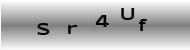4: (93, 13, 110, 27)
S: (36, 21, 50, 36)
U: (120, 7, 136, 21)
f: (137, 18, 148, 32)
r: (67, 24, 77, 35)
